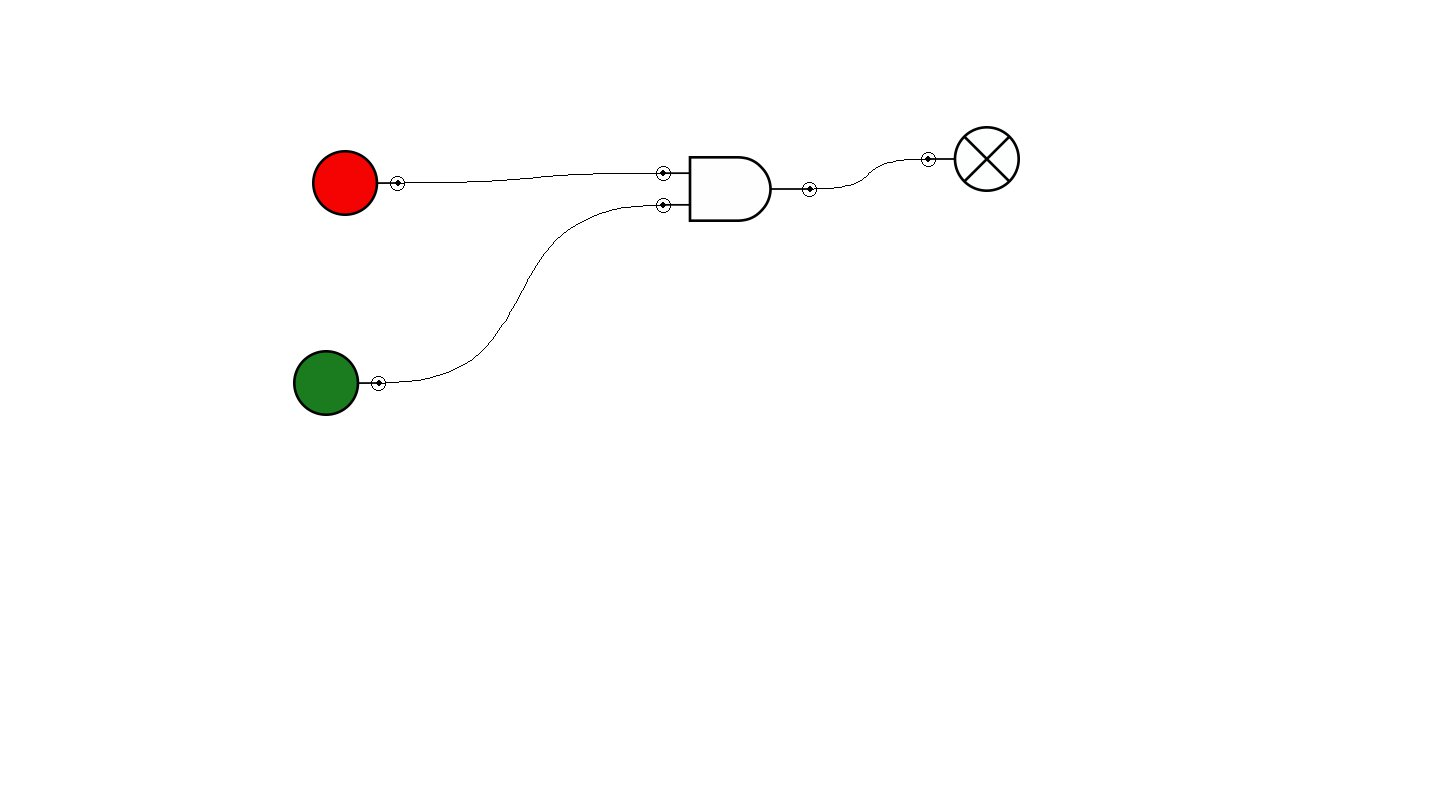and: (656, 156, 817, 222)
bulb: (921, 126, 1020, 192)
switch_False: (312, 150, 405, 216)
switch_True: (293, 350, 386, 416)
